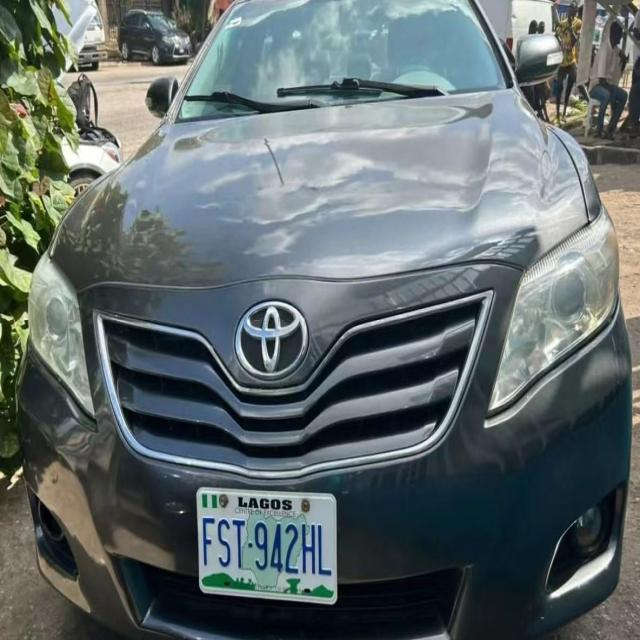Nigerian License Plate - vdataset benjamin-daria: (194, 485, 341, 613)
